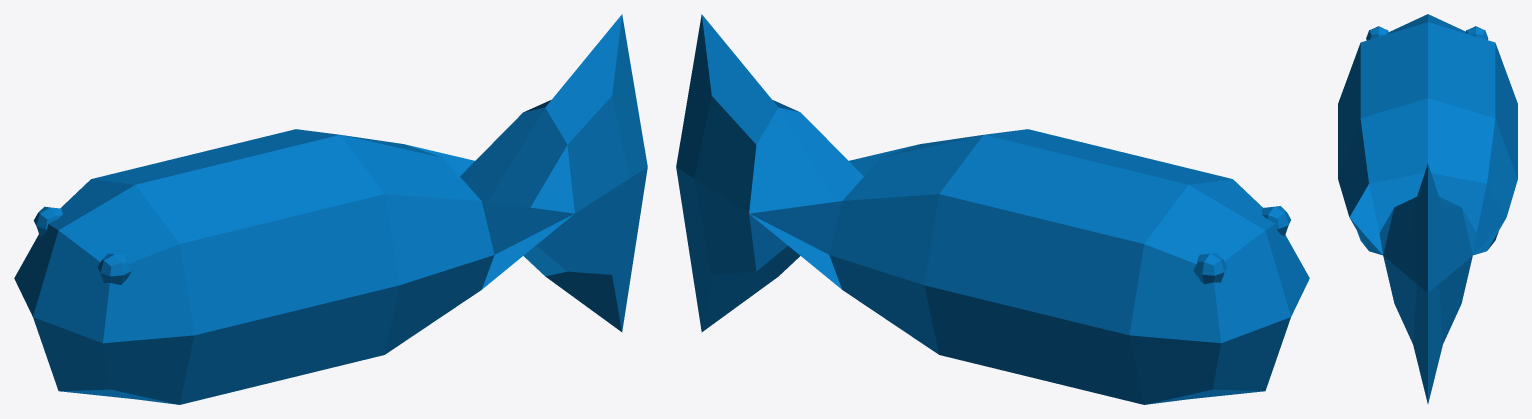
Rendered from blue_fish.obj.
3 views of the same model, side by side, from view 1: azimuth 30°, elevation 25°; view 2: azimuth 150°, elevation 25°; view 3: azimuth 270°, elevation 25° (orthographic). The views are drawn at different scales.
Visible parts, largest first — view 1: Cube, Cube.001; view 2: Cube, Cube.002; view 3: Cube, Cube.001, Cube.002.
Part boxes in pixels (bbox=[...]): Cube: bbox=[14, 14, 647, 404]; Cube.001: bbox=[98, 253, 131, 284]; Cube: bbox=[676, 14, 1309, 404]; Cube.002: bbox=[1193, 253, 1227, 284]; Cube: bbox=[1338, 14, 1517, 403]; Cube.001: bbox=[1366, 26, 1388, 40]; Cube.002: bbox=[1465, 26, 1488, 39].
Size of the model in its own units: 6 by 2.97 by 2.
